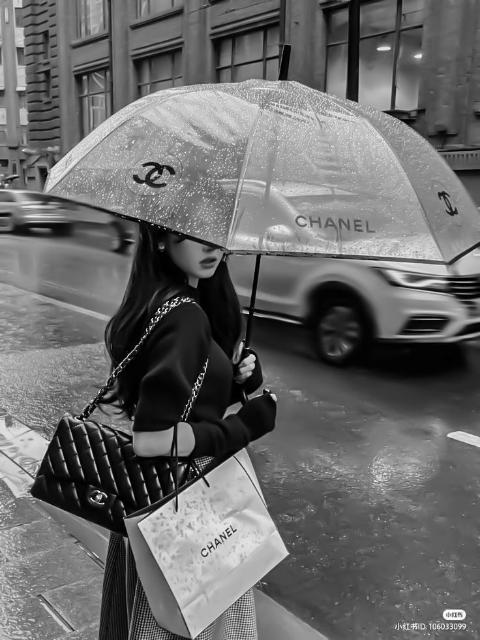Chanel: (190, 512, 248, 570), (290, 207, 384, 240), (431, 185, 467, 221), (133, 162, 176, 188), (82, 485, 112, 513)
